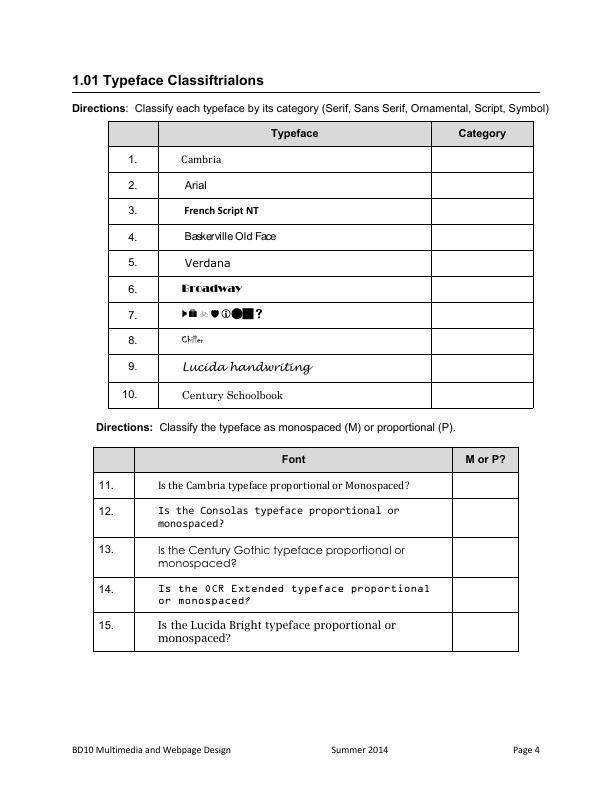table: (103, 116, 540, 416), (90, 442, 527, 658)
text: (68, 101, 555, 116), (94, 419, 458, 435), (72, 71, 268, 90)
